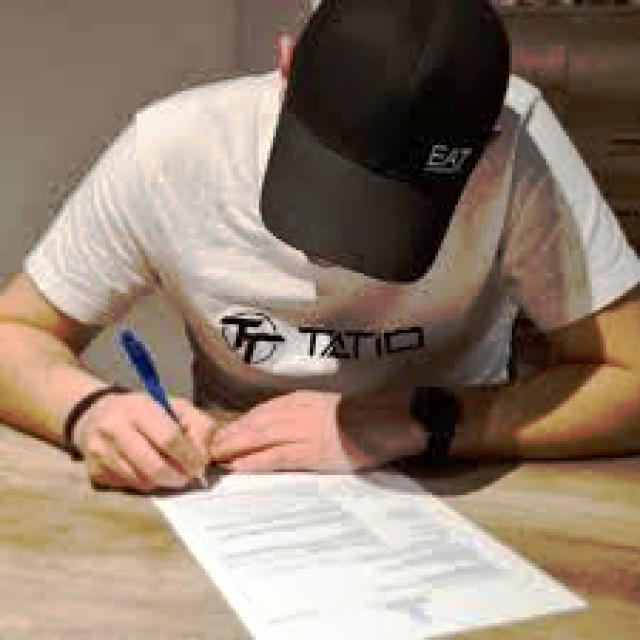TOPI: (239, 1, 539, 294)
